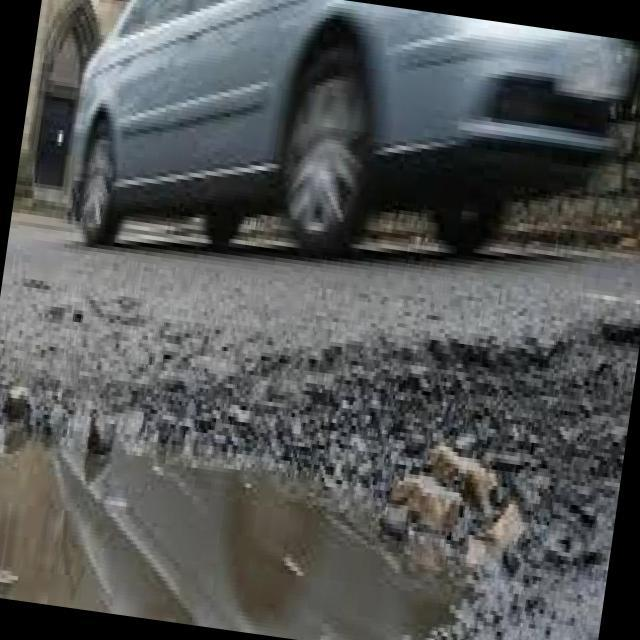Pothole: (0, 333, 640, 640)
